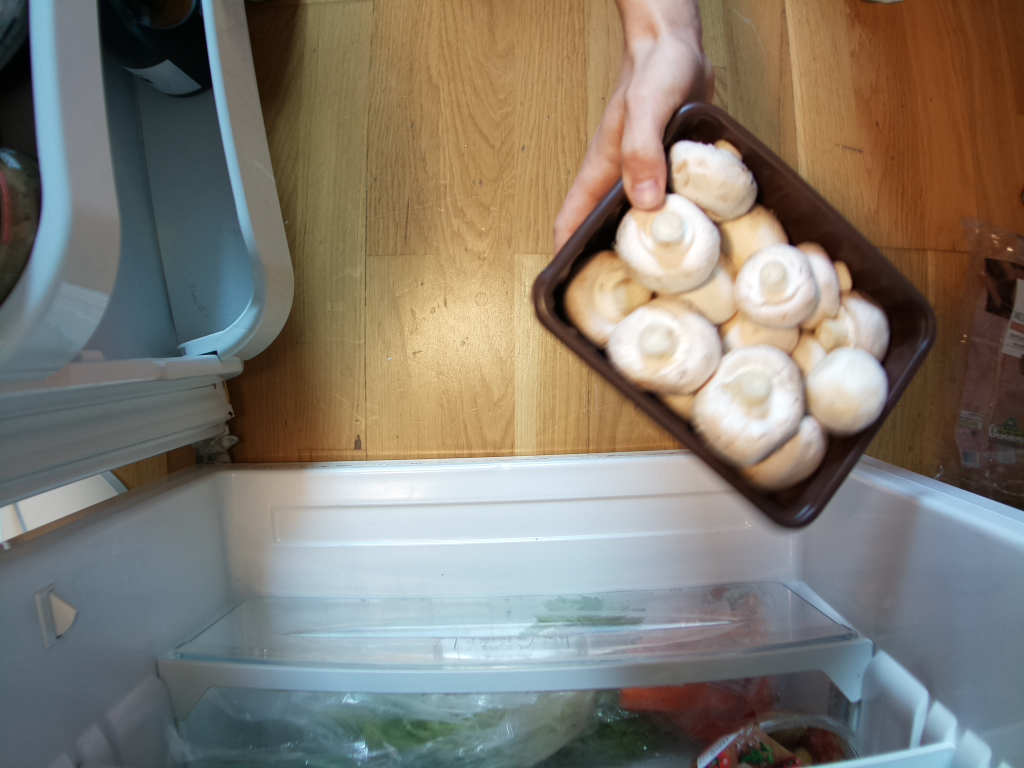mushrooms: (527, 97, 941, 535)
